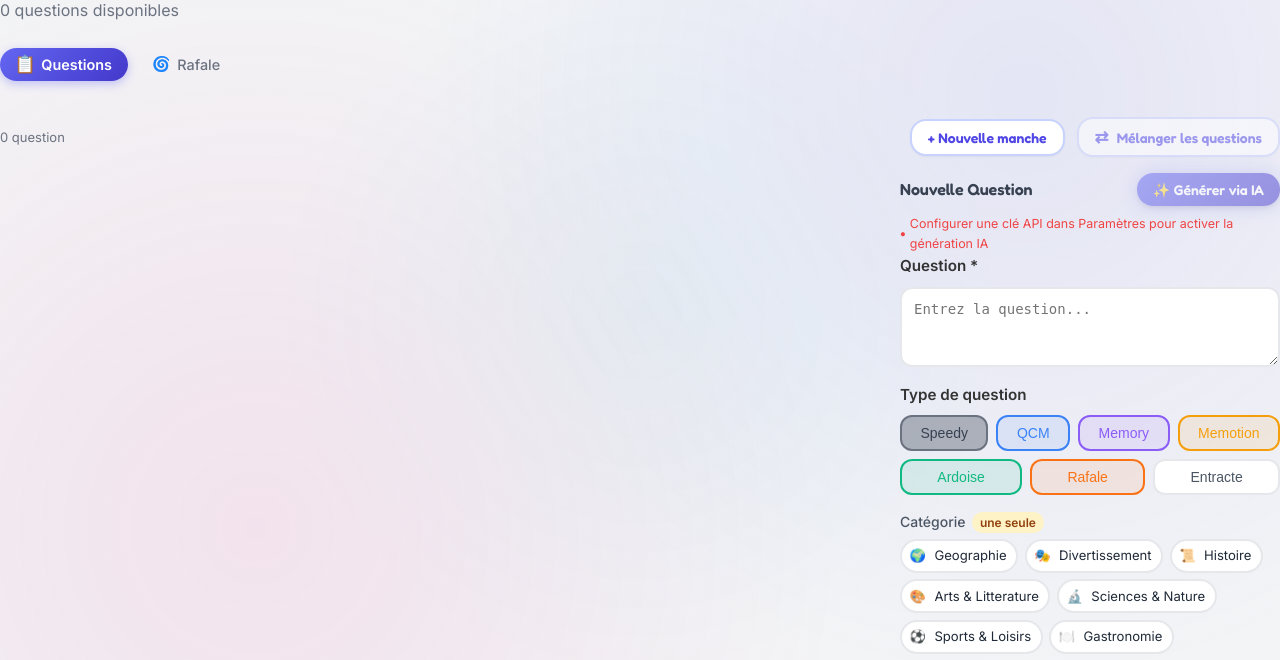
Test case: QuestionsPage — formulaire ARDOISE (#87) › affiche la section ARDOISE avec le sélecteur AZERTY/NUMPAD
The width and height of the screenshot is (1280, 660).
Click the button "Ardoise" at (961, 477), box [900, 459, 1022, 495]
(page scrolled)
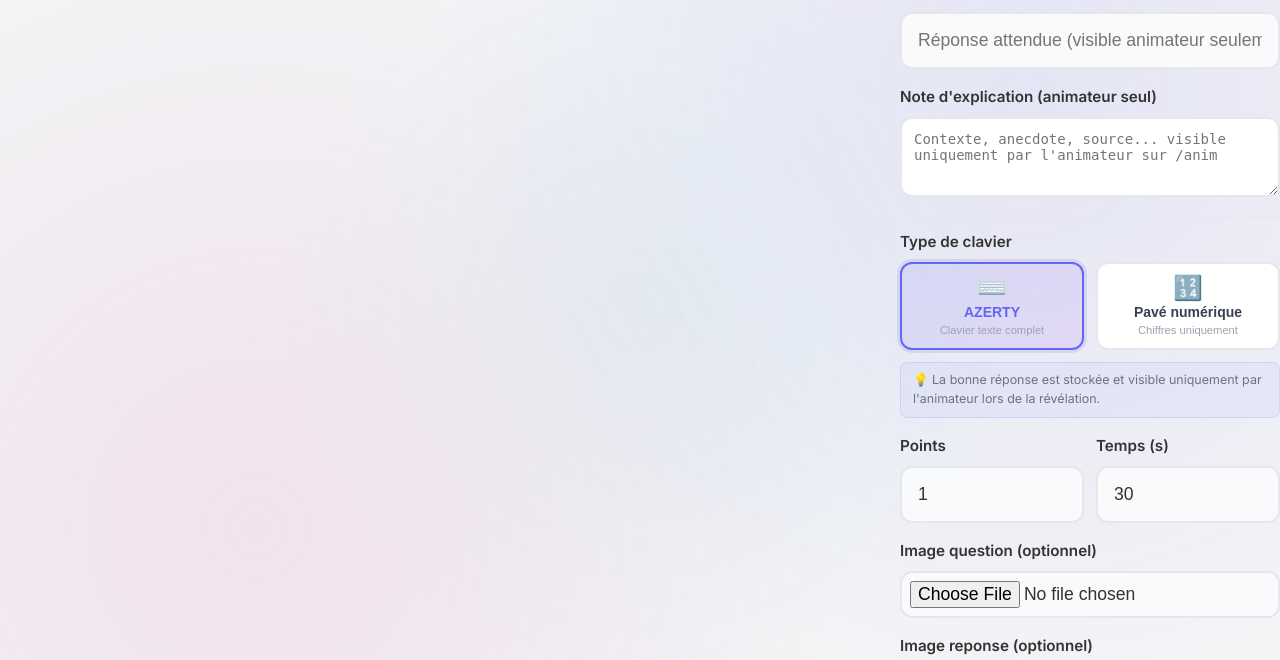
expect the text "AZERTY" is shown: met, box [964, 304, 1020, 320]
expect the text "Pavé numérique" is shown: met, box [1134, 304, 1242, 320]
